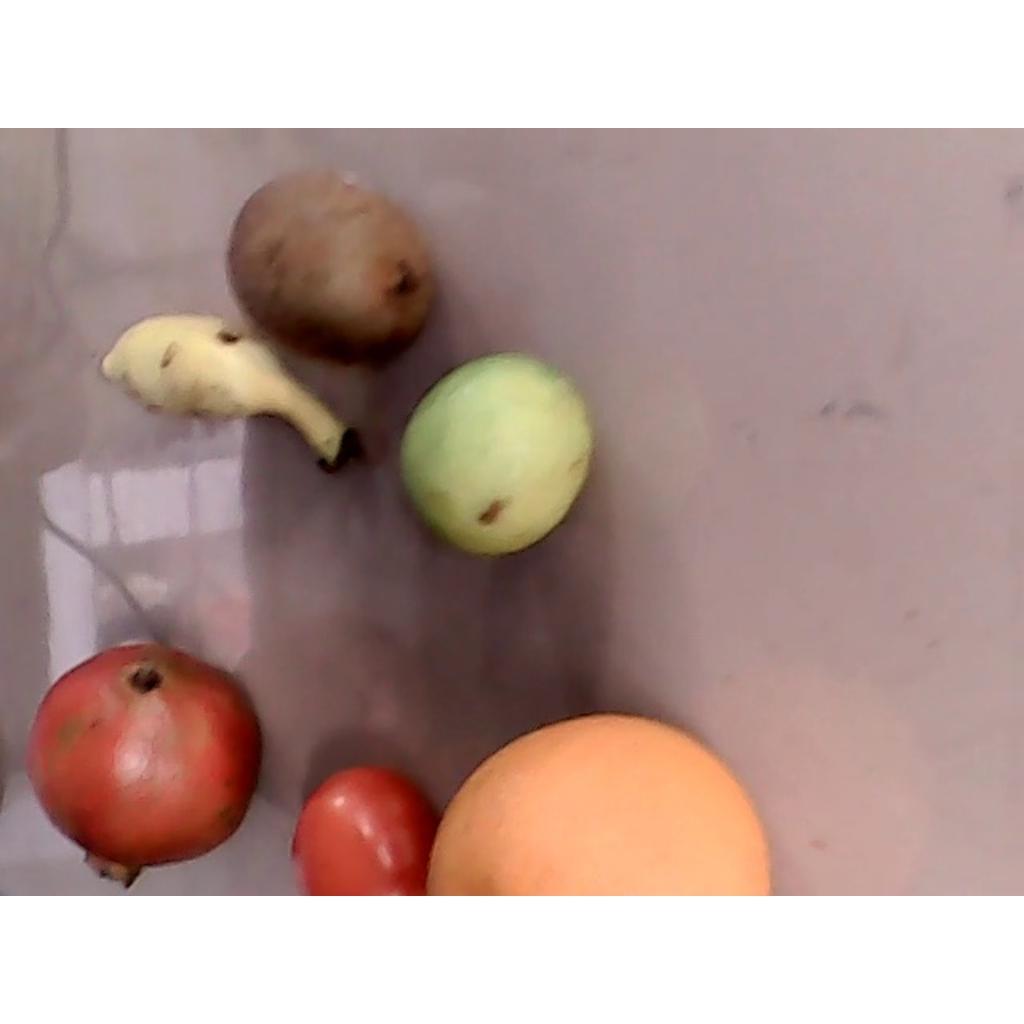kiwi: (224, 176, 436, 360)
lemon: (397, 350, 592, 556)
orange: (430, 713, 770, 896)
pomegranate: (26, 640, 262, 888)
tomato: (291, 765, 436, 894)
